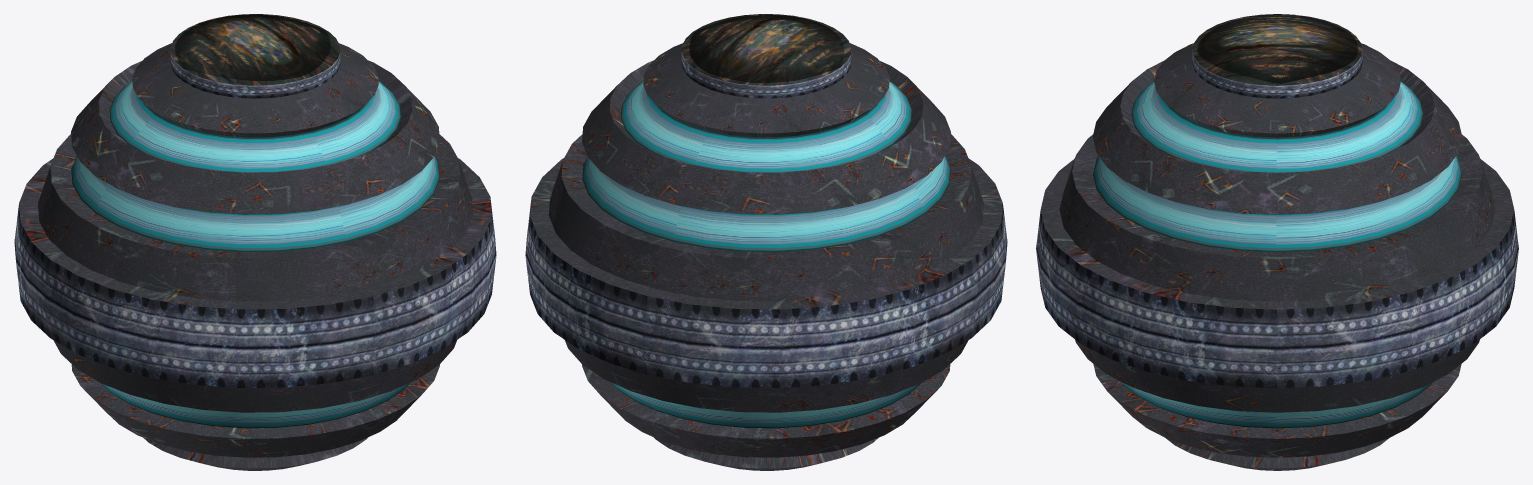
The model's file is MapSphereNew_2019.FBX.
3 renders of one model, left to right at view 1: azimuth 30°, elevation 25°; view 2: azimuth 150°, elevation 25°; view 3: azimuth 270°, elevation 25°, orthographic.
Parts seen in each view (by area): view 1: MapSphere; view 2: MapSphere; view 3: MapSphere.
Part boxes in pixels (x1,y1,x2,y2): MapSphere: (14, 14, 496, 470); MapSphere: (525, 14, 1007, 470); MapSphere: (1036, 14, 1518, 470).
Size of the model in its own units: 17.11 by 16.25 by 17.11.
